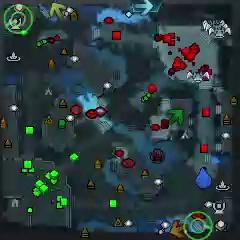p1: (196, 167, 213, 189)
x2: (49, 2, 66, 21)
x3: (134, 0, 152, 16)
x4: (167, 108, 184, 126)
x5: (170, 221, 189, 238)
